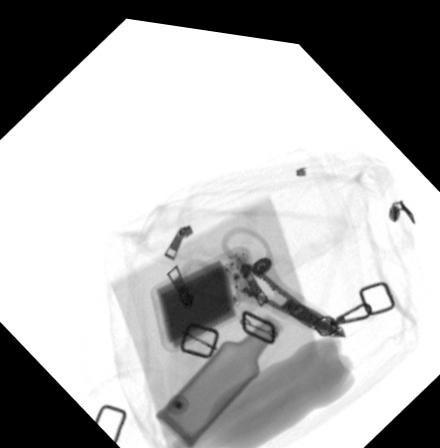Powerbank: (147, 234, 267, 348)
Scissors: (179, 217, 348, 328)
